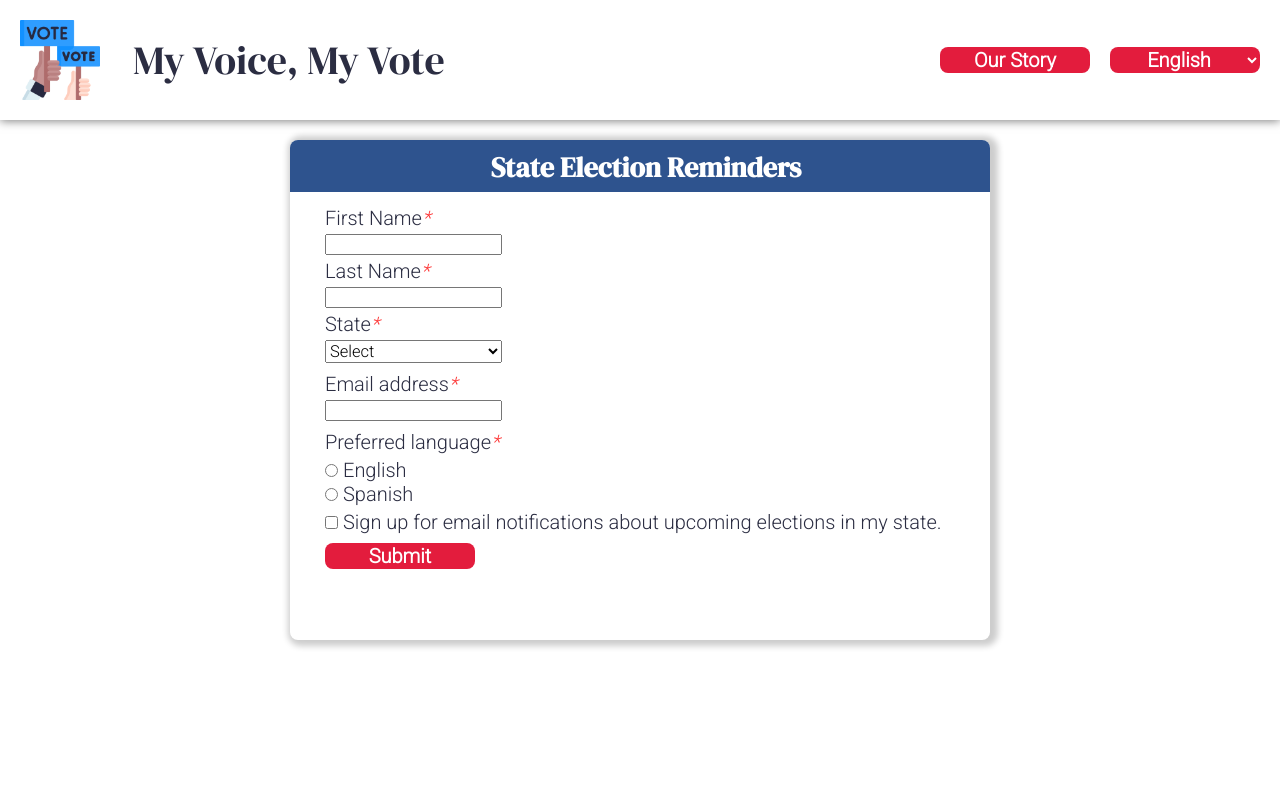
Test: Mi Voz, Mi Voto email notification form user flow › Should be able to submit the form, see a related icon, and a confirmation message in English
Select "English" in the dropdown with class "en-espanol-button" at (1185, 60), box [1110,47,1260,73]
Type "Elise" into the field with id "first_name".
click(414, 245); type("Elise")  # box [325,234,502,255]
Type "Beall" into the field with id "last_name".
click(414, 298); type("Beall")  # box [325,287,502,308]
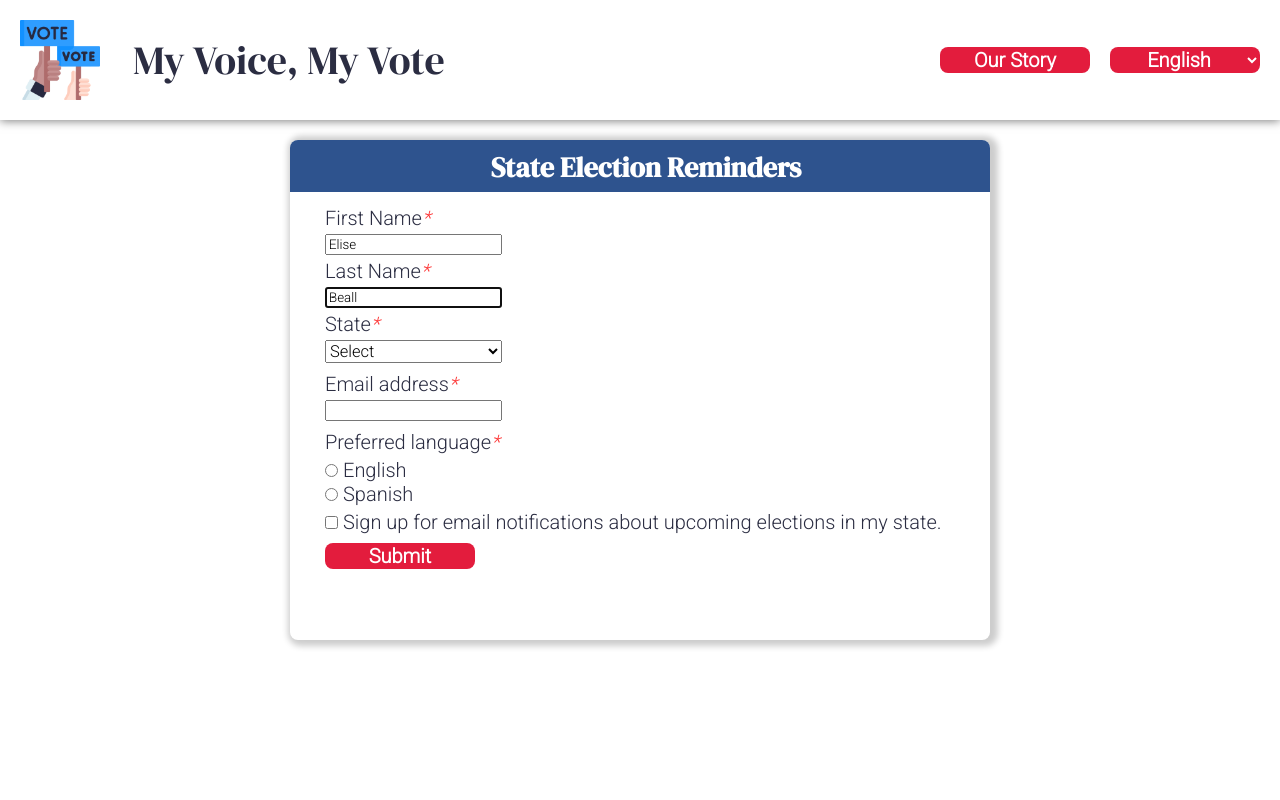
Select "Colorado" in the dropdown with id "state_name" at (414, 352), box [325,340,502,363]
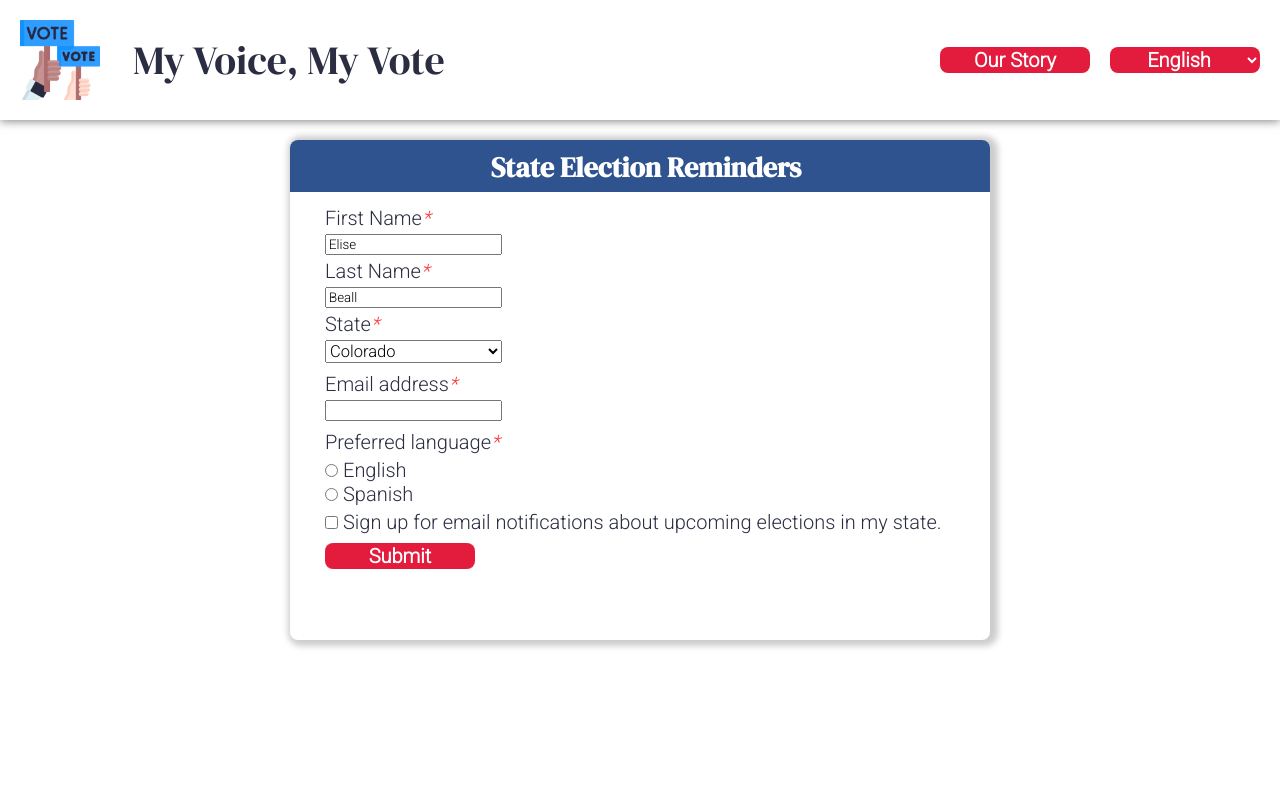
Type "elisebeall@gmail.com" into the field with id "email".
click(414, 411); type("elisebeall@gmail.com")  # box [325,400,502,421]
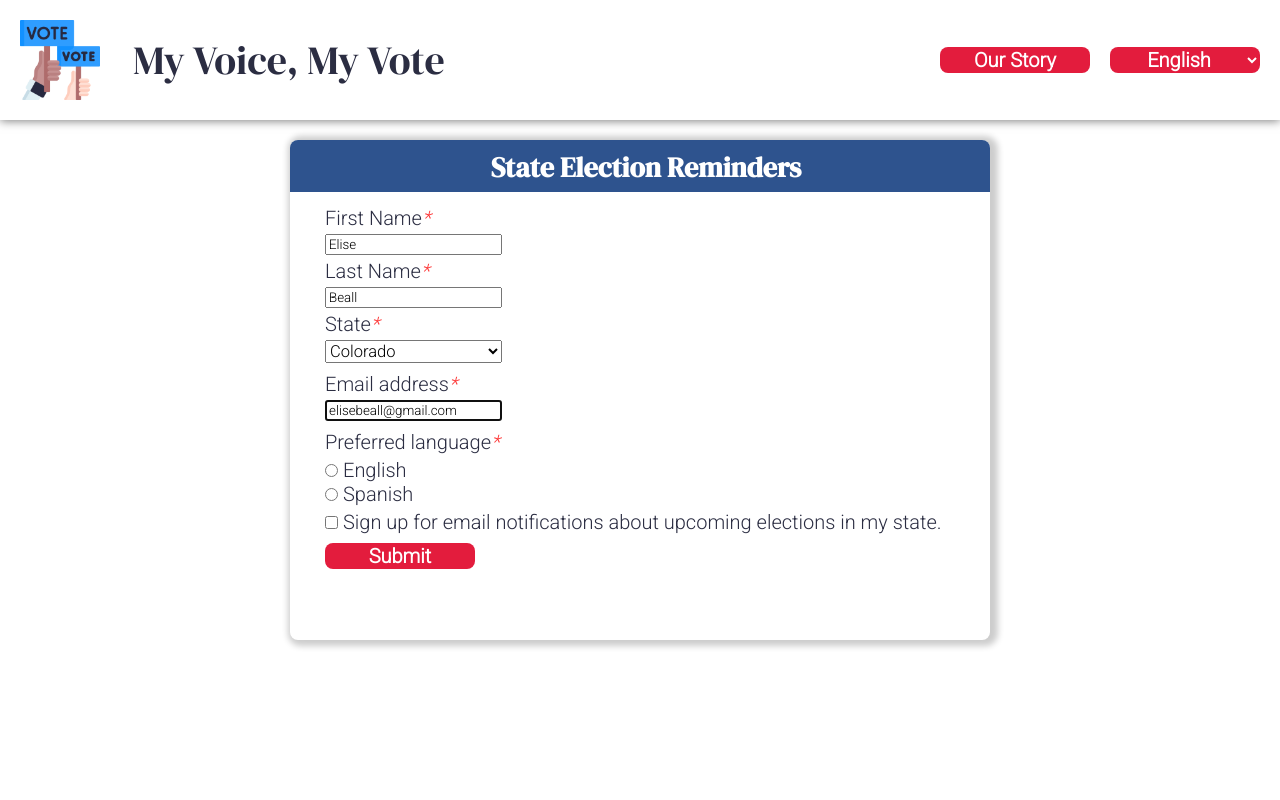
Click the radio button labelled "English".
click(332, 471)  # box [325,464,338,477]
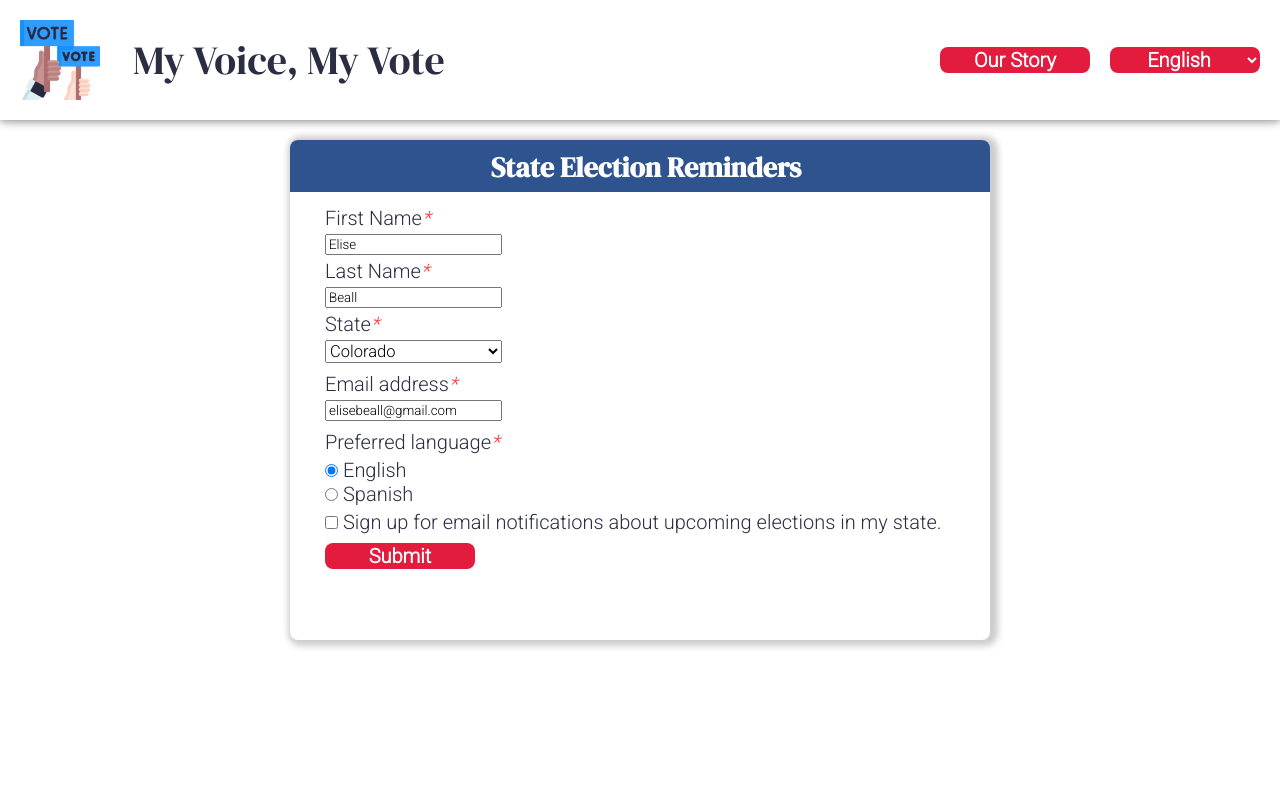
Click the checkbox with id "agree_to_emails".
click(332, 523)  # box [325,516,338,529]
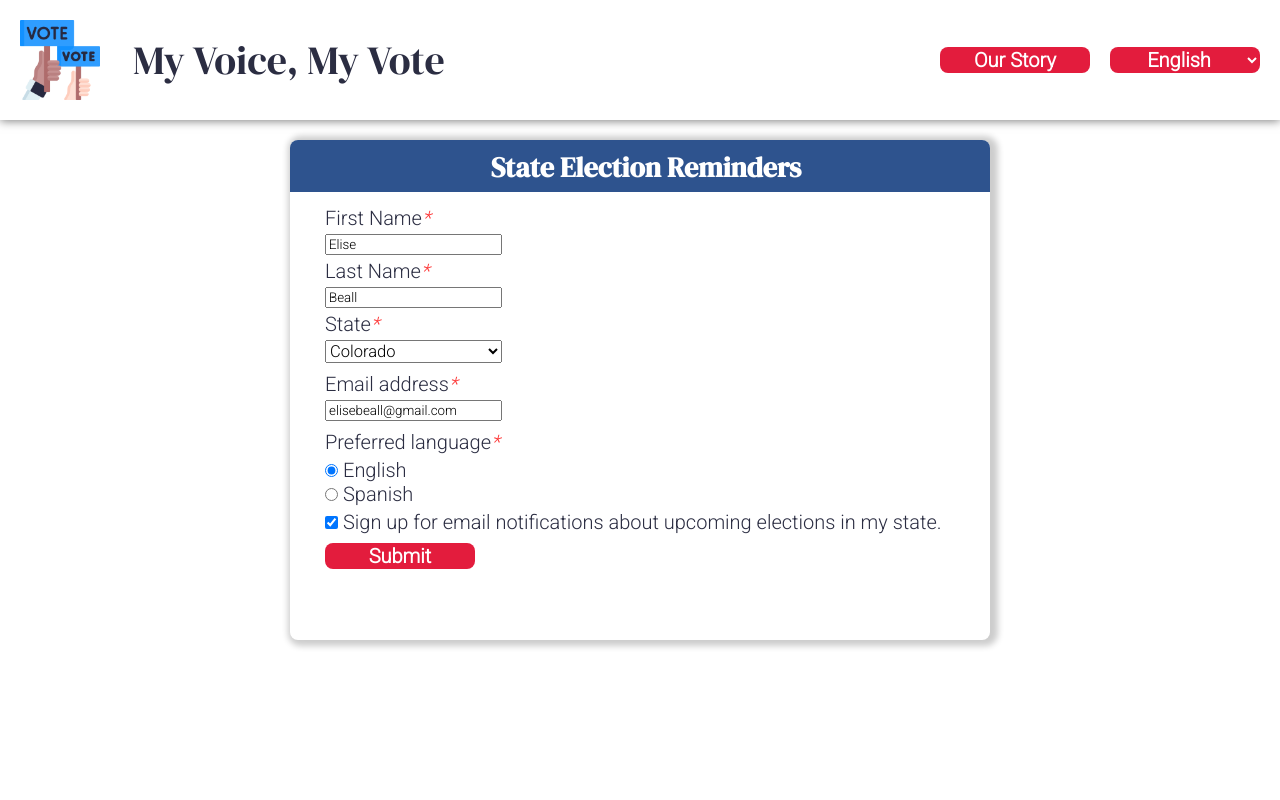
Click the button with class "submit-button".
click(400, 556)  # box [325,543,475,569]
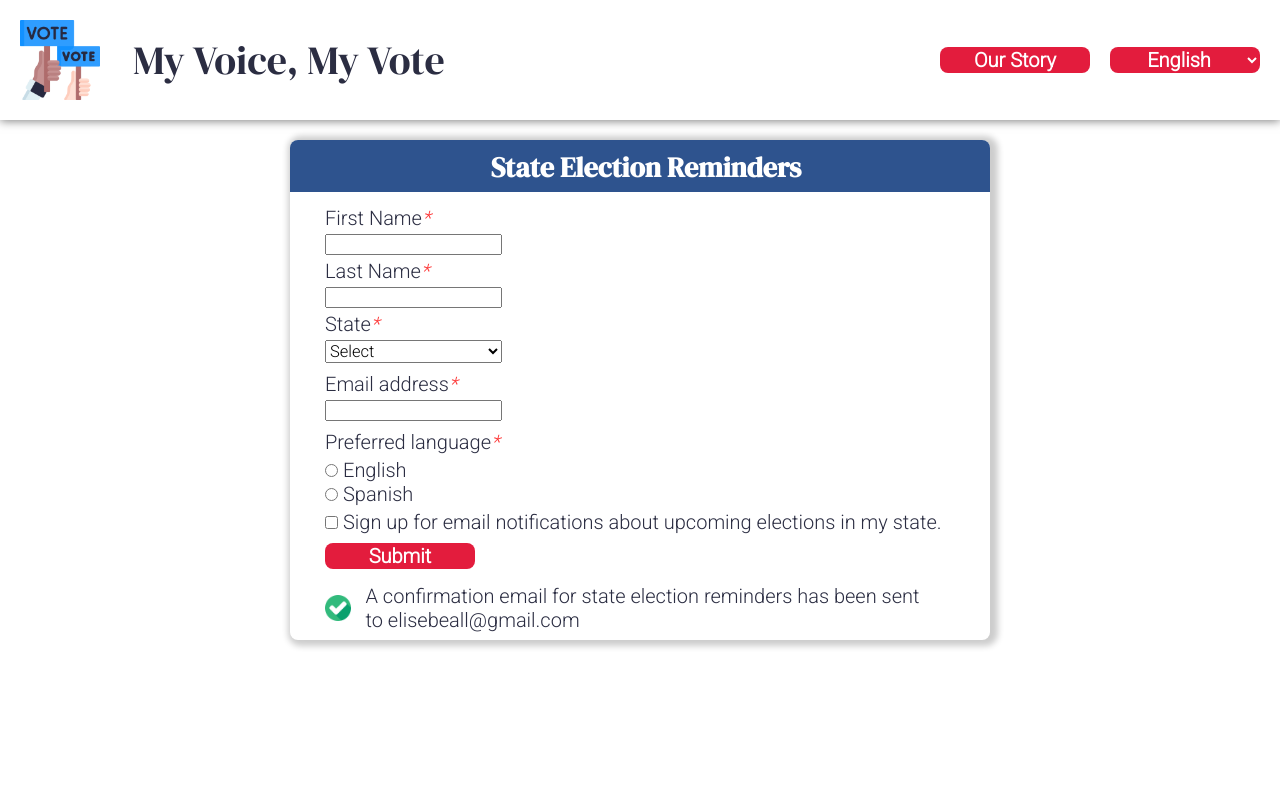
expect the text with class "success-message" shows "A confirmation email for state election reminders has been sent to elisebeall@gmail.com": met, box [366,584,920,632]
expect the picture with class "green" is shown: met, box [325,595,351,621]
